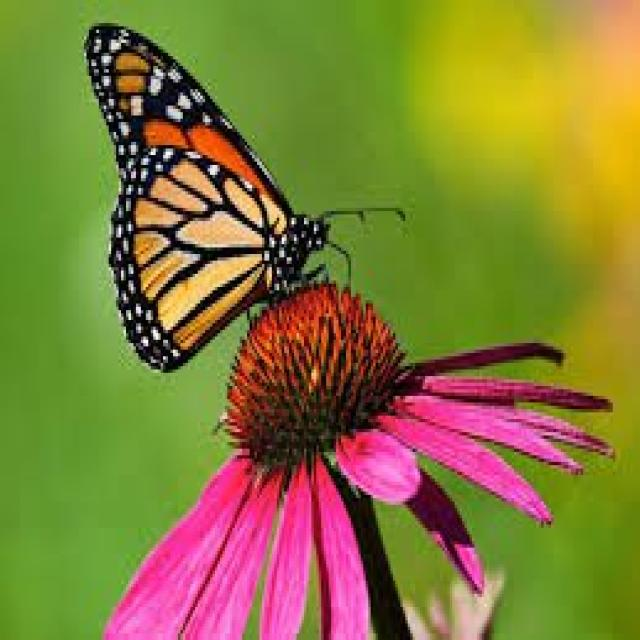butterfly: (85, 77, 306, 310)
